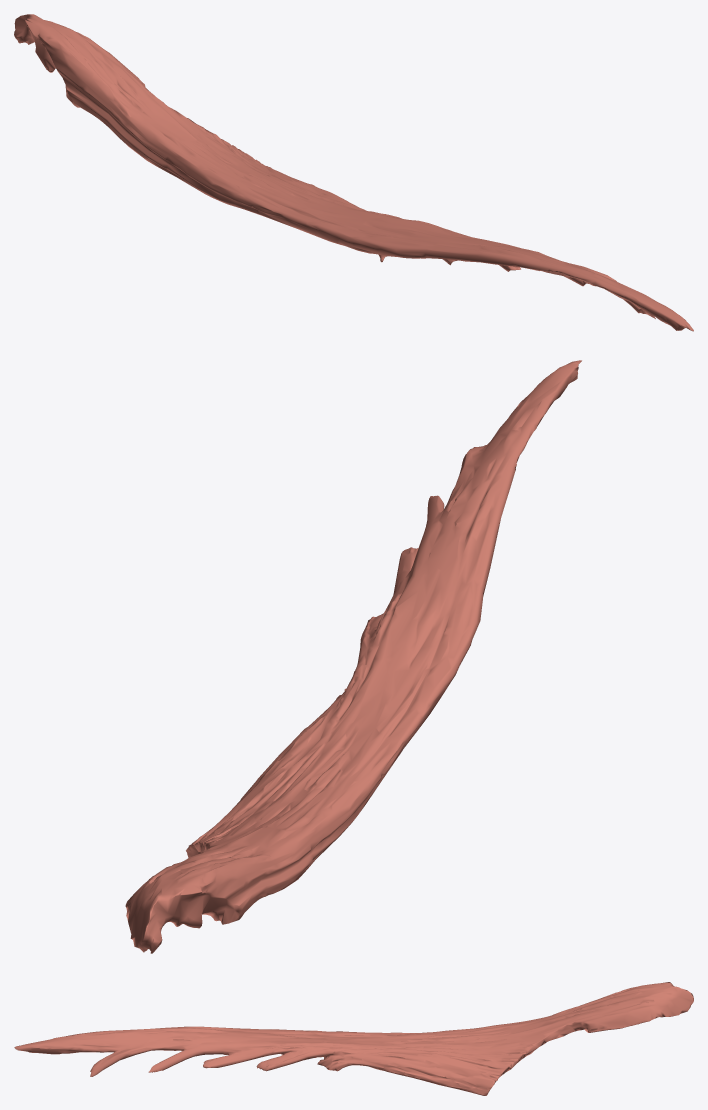
3 views of the same model, one above another, from view 1: azimuth 30°, elevation 25°; view 2: azimuth 150°, elevation 25°; view 3: azimuth 270°, elevation 25° (orthographic). The views are drawn at different scales.
Parts seen in each view (by area): view 1: 左侧腰髂肋肌; view 2: 左侧腰髂肋肌; view 3: 左侧腰髂肋肌.
Boxes of the visible parts, box(x1,y1,x2,y2) form: 左侧腰髂肋肌: box(14, 14, 693, 331); 左侧腰髂肋肌: box(125, 360, 581, 953); 左侧腰髂肋肌: box(14, 982, 693, 1095).
Size of the model in its own units: 0.1393 by 0.07 by 0.575.
